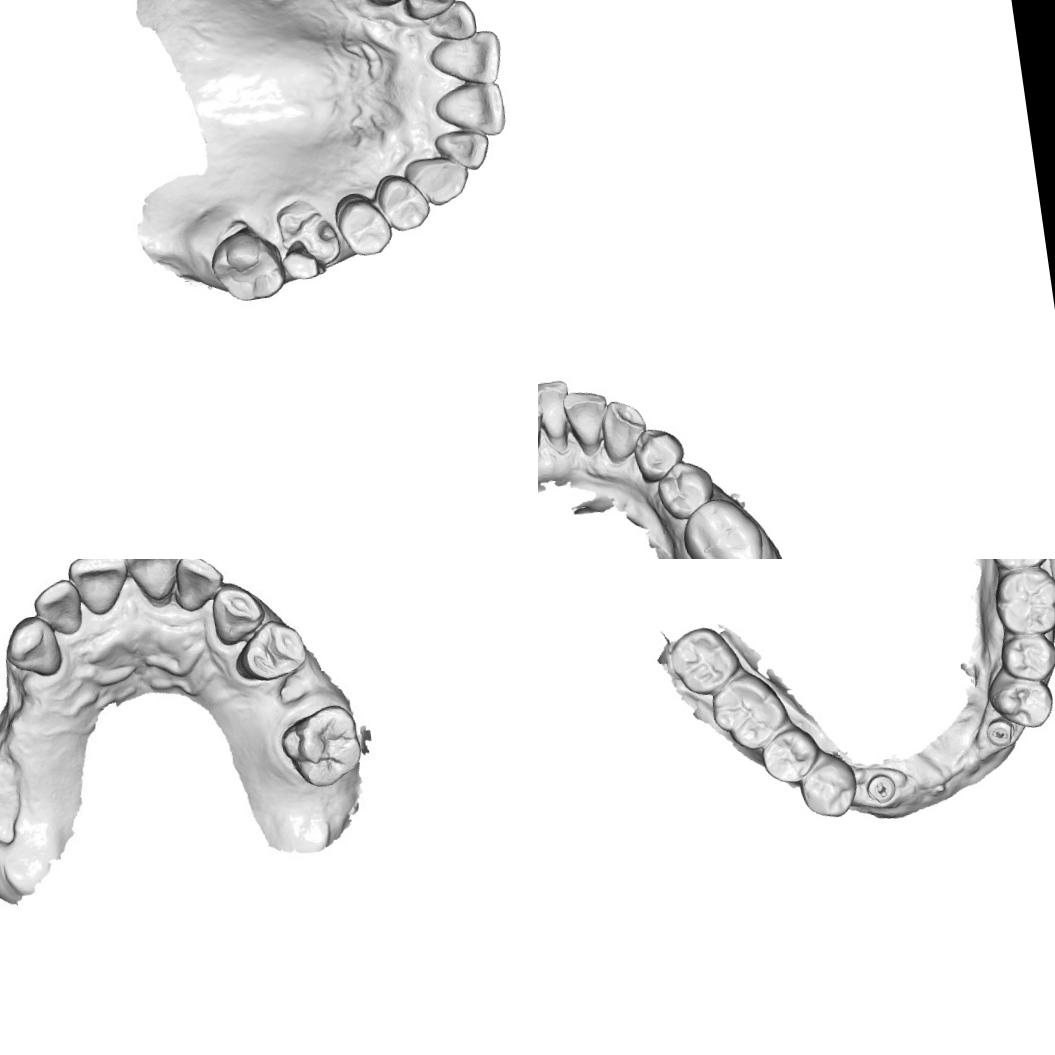canine: (400, 141, 474, 210), (204, 580, 269, 650), (0, 614, 63, 684), (596, 396, 652, 466), (400, 0, 460, 23)
implant_minus: (864, 771, 898, 806), (984, 716, 1017, 748)
incisor: (426, 24, 506, 92), (431, 78, 510, 144), (28, 572, 88, 641), (560, 386, 614, 457), (68, 559, 133, 617), (538, 378, 578, 454), (433, 121, 492, 172), (120, 559, 187, 601), (171, 559, 227, 609), (423, 0, 478, 45), (538, 395, 550, 463)
molar: (273, 698, 370, 795), (706, 667, 792, 754), (206, 221, 288, 308), (272, 193, 346, 288), (677, 491, 769, 559), (665, 622, 744, 700), (990, 564, 1055, 639)
premolar: (230, 616, 309, 688), (983, 661, 1055, 733), (795, 750, 861, 822), (332, 188, 395, 262), (654, 457, 718, 523), (757, 724, 823, 788), (630, 422, 689, 486), (376, 169, 434, 234), (997, 628, 1055, 686)
